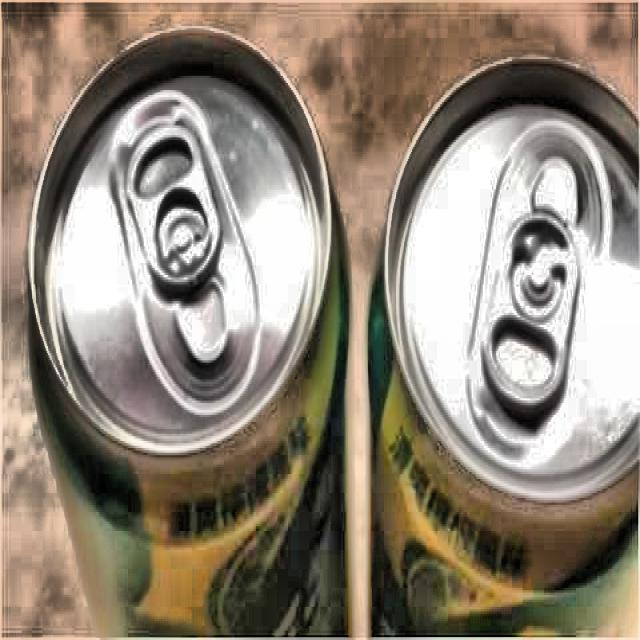can: (20, 19, 360, 640), (364, 50, 640, 638)
